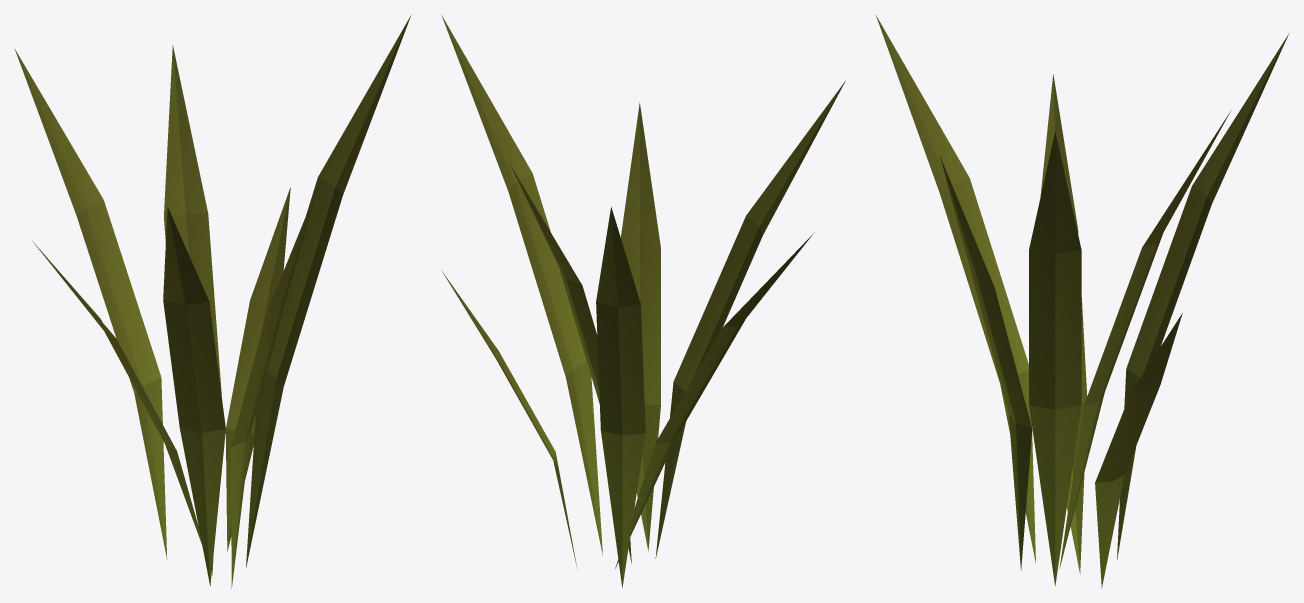
File: Plant_6.fbx
The picture shows the model from 3 angles, left to right: view 1: azimuth 30°, elevation 25°; view 2: azimuth 150°, elevation 25°; view 3: azimuth 270°, elevation 25°; orthographic projection. The views are drawn at different scales.
Visible parts, largest first — view 1: polySurface10621; view 2: polySurface10621; view 3: polySurface10621.
Part boxes in pixels (x1,y1,x2,y2): polySurface10621: (14, 15, 411, 588); polySurface10621: (441, 14, 845, 587); polySurface10621: (876, 15, 1288, 588).
Bounding box in the file's own units: 70.9 × 91.37 × 63.41.
